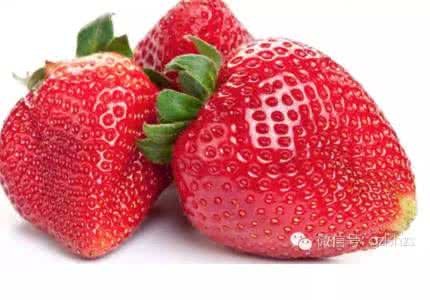strawberry: (156, 34, 422, 255), (1, 37, 166, 260), (126, 1, 258, 80)
